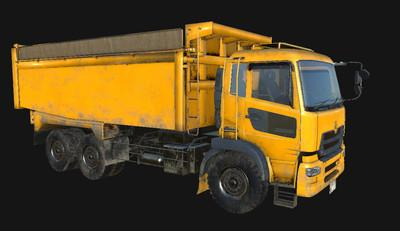truck: (7, 21, 370, 217)
